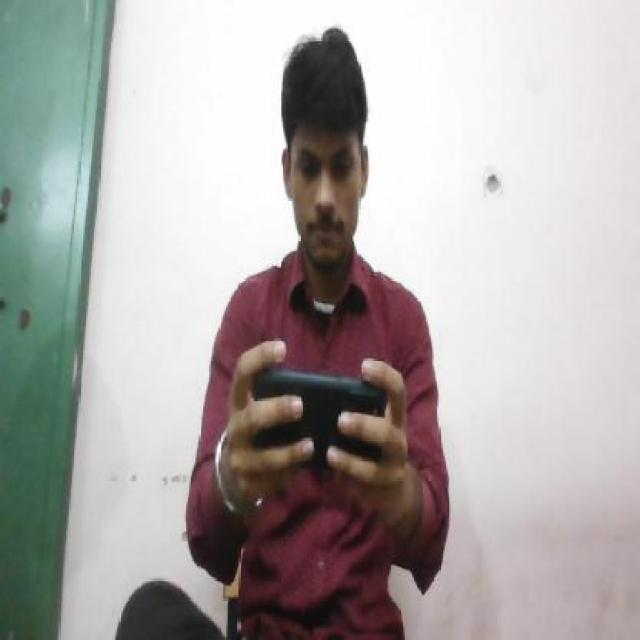Phone: (246, 367, 388, 478)
